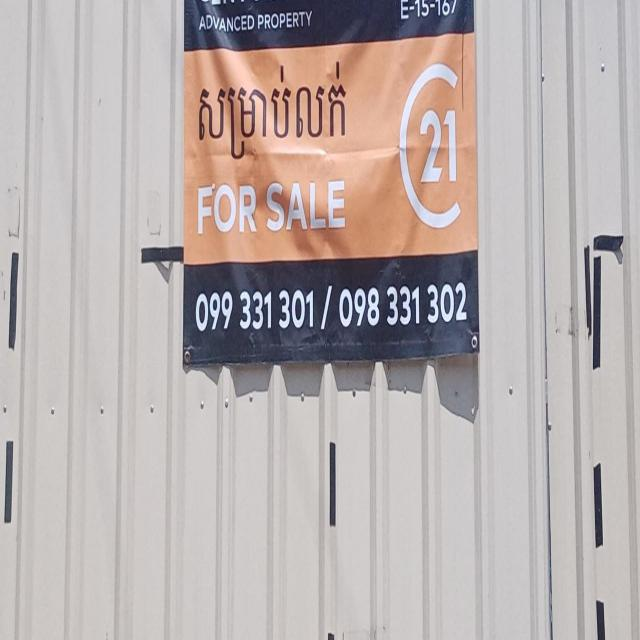Yolov11kh: (189, 52, 361, 169)
